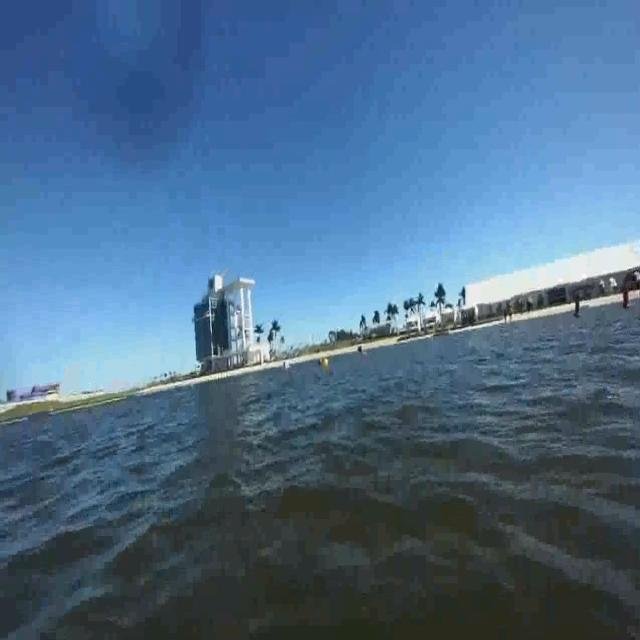yellow-buoy: (321, 356, 329, 368)
